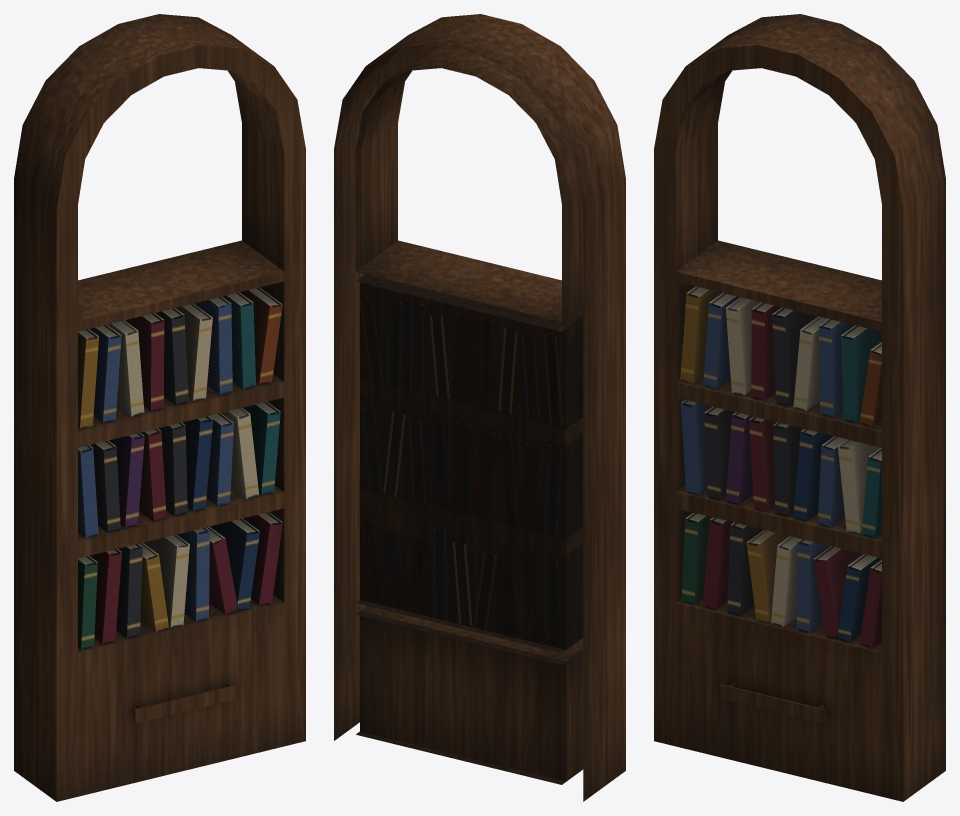
File: bookshelf-v1.glb
The picture shows the model from 3 angles, left to right: view 1: azimuth 30°, elevation 25°; view 2: azimuth 150°, elevation 25°; view 3: azimuth 330°, elevation 25°; orthographic projection.
Parts seen in each view (by area): view 1: bookshelf_model; view 2: bookshelf_model; view 3: bookshelf_model.
Boxes of the visible parts, left/top/right/bottom form: bookshelf_model: left=14, top=14, right=305, bottom=801; bookshelf_model: left=334, top=14, right=625, bottom=801; bookshelf_model: left=654, top=14, right=945, bottom=801.
Size of the model in its own units: 1.12 by 3.1 by 0.38.
1 material, 1 textured.
